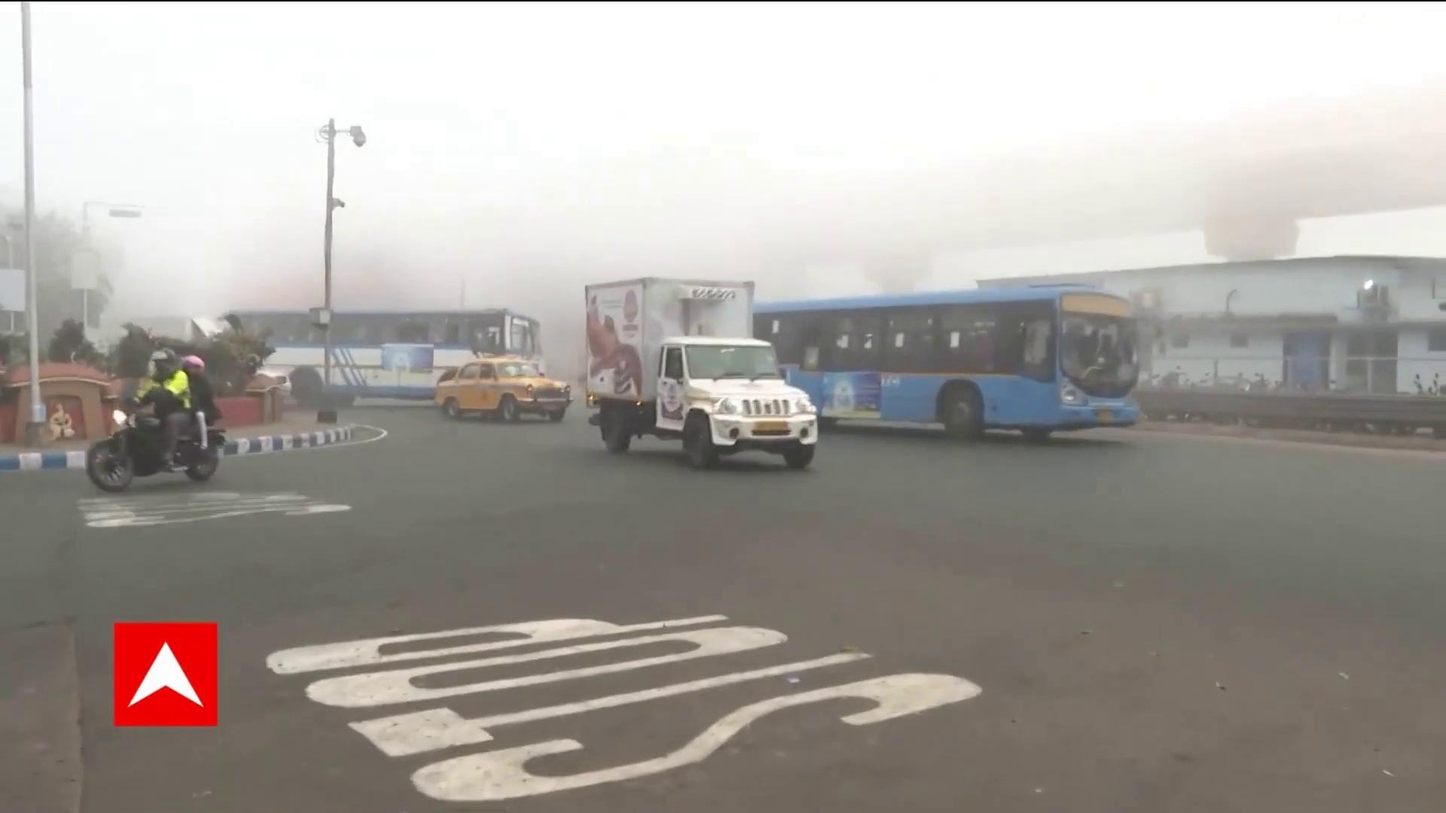Bike: (83, 347, 227, 493)
Bus: (766, 268, 1142, 449), (249, 313, 542, 414)
Car: (434, 355, 574, 420)
Truck: (583, 275, 819, 471)
